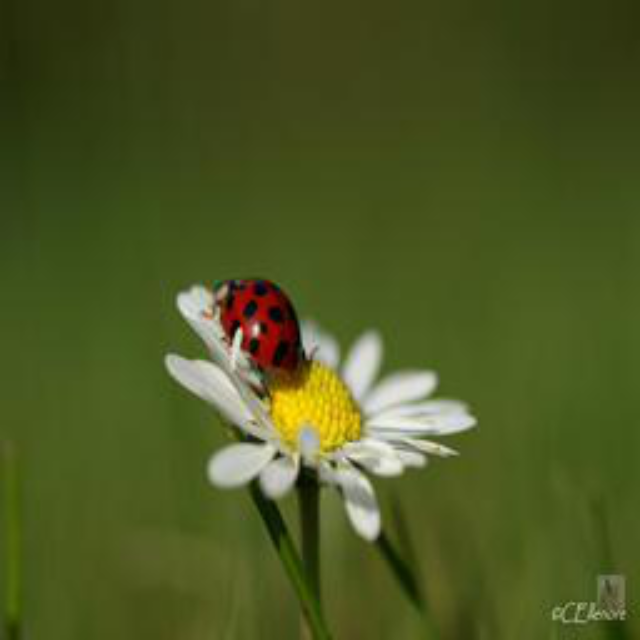daisy: (164, 278, 479, 538)
